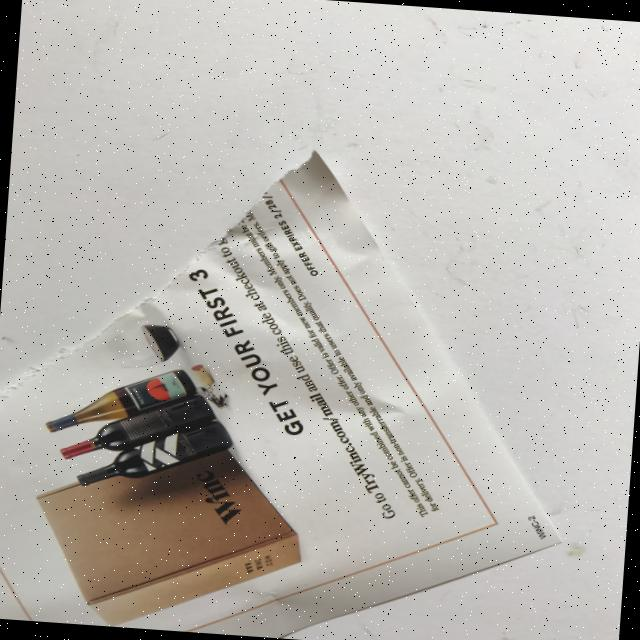paper: (0, 127, 589, 640)
